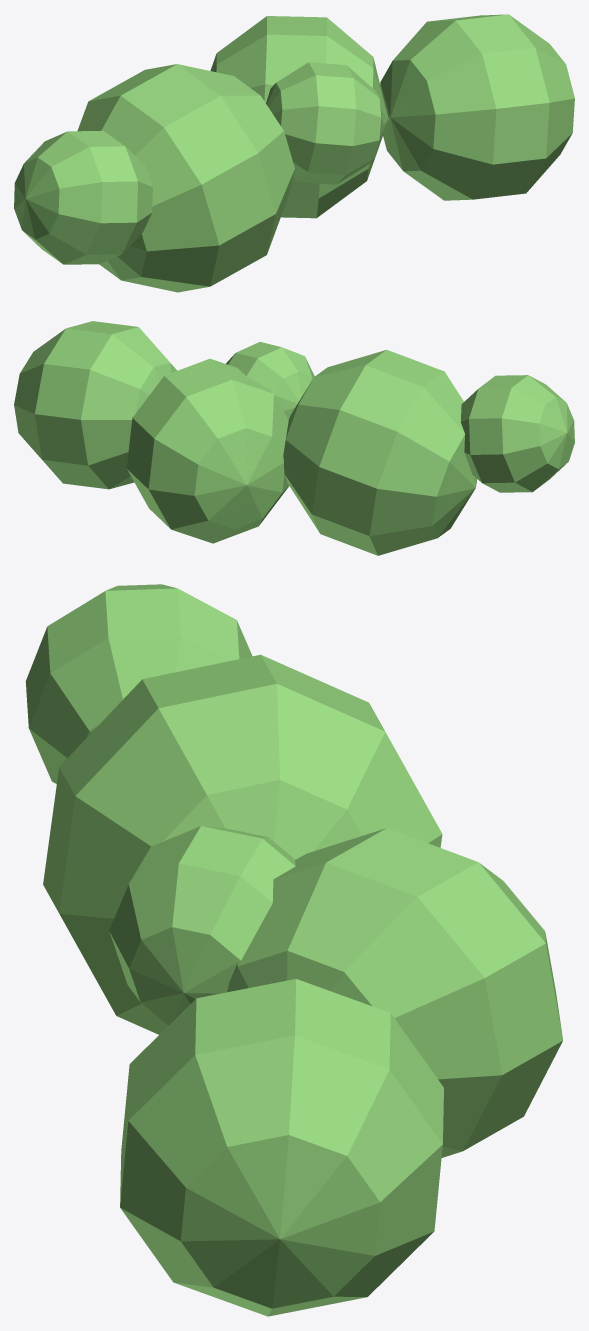
The model's file is bushes_1_1.dae.
3 renders of one model, top to bottom at view 1: azimuth 30°, elevation 25°; view 2: azimuth 150°, elevation 25°; view 3: azimuth 270°, elevation 25°, orthographic. The views are drawn at different scales.
Visible parts, largest first — view 1: bushes_1_1; view 2: bushes_1_1; view 3: bushes_1_1.
Boxes of the visible parts, <box> form: bushes_1_1: <box>14,14,574,292</box>; bushes_1_1: <box>14,321,574,555</box>; bushes_1_1: <box>25,584,562,1316</box>.
Size of the model in its own units: 2.54 by 1.17 by 0.8821.
1 material, 1 textured.
